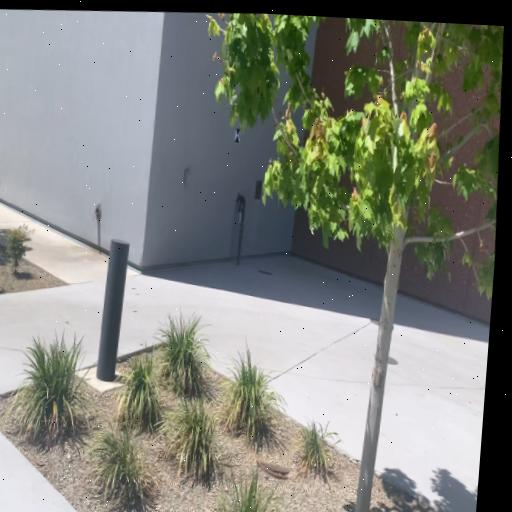target3: (234, 126, 241, 144)
